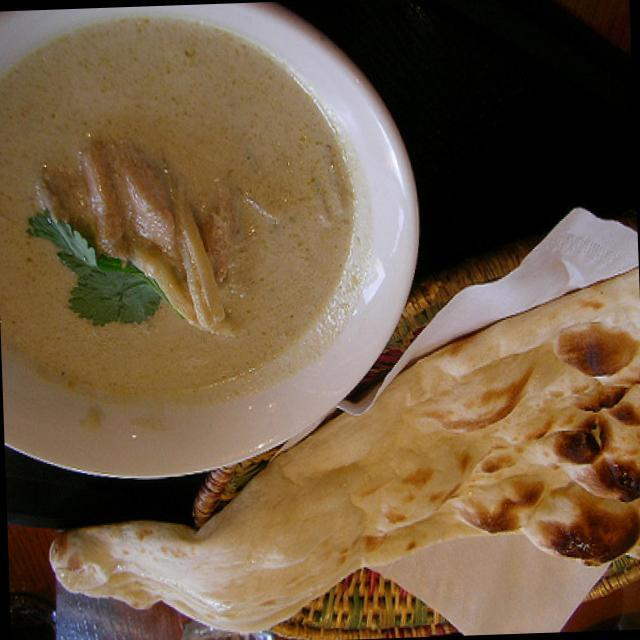Beef Curry: (20, 65, 296, 375)
